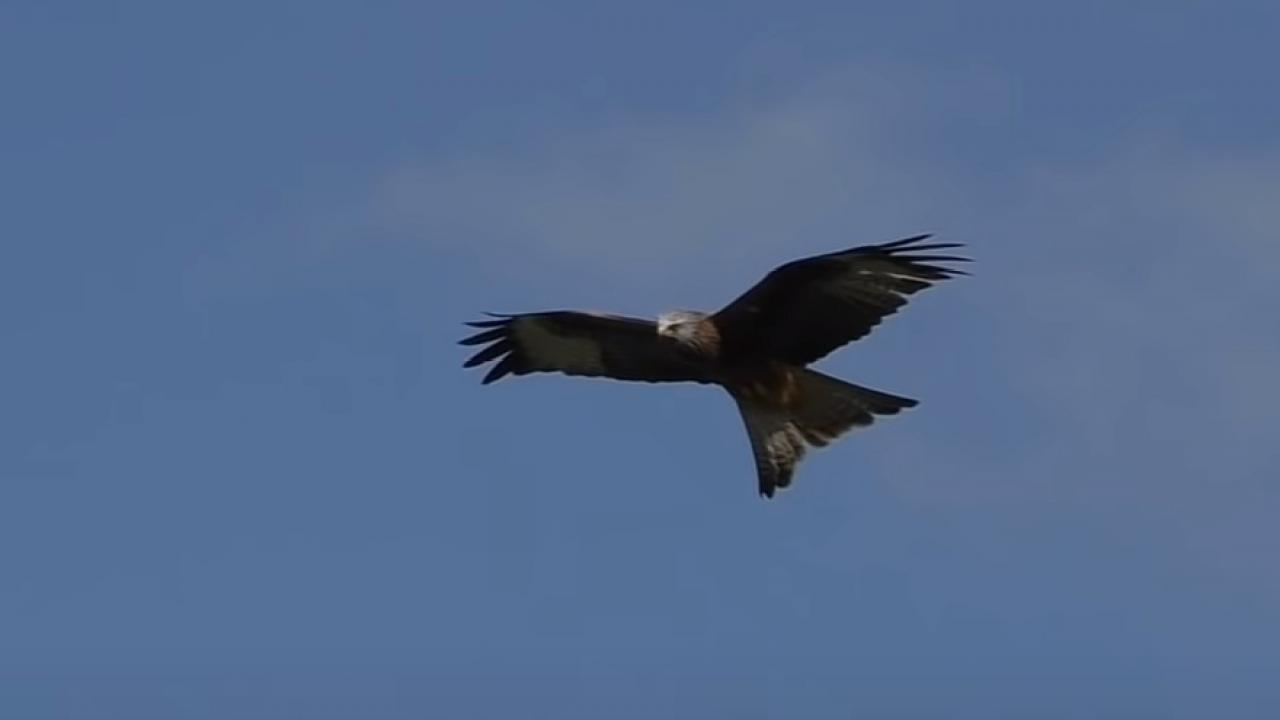Bird: (449, 222, 988, 508)
